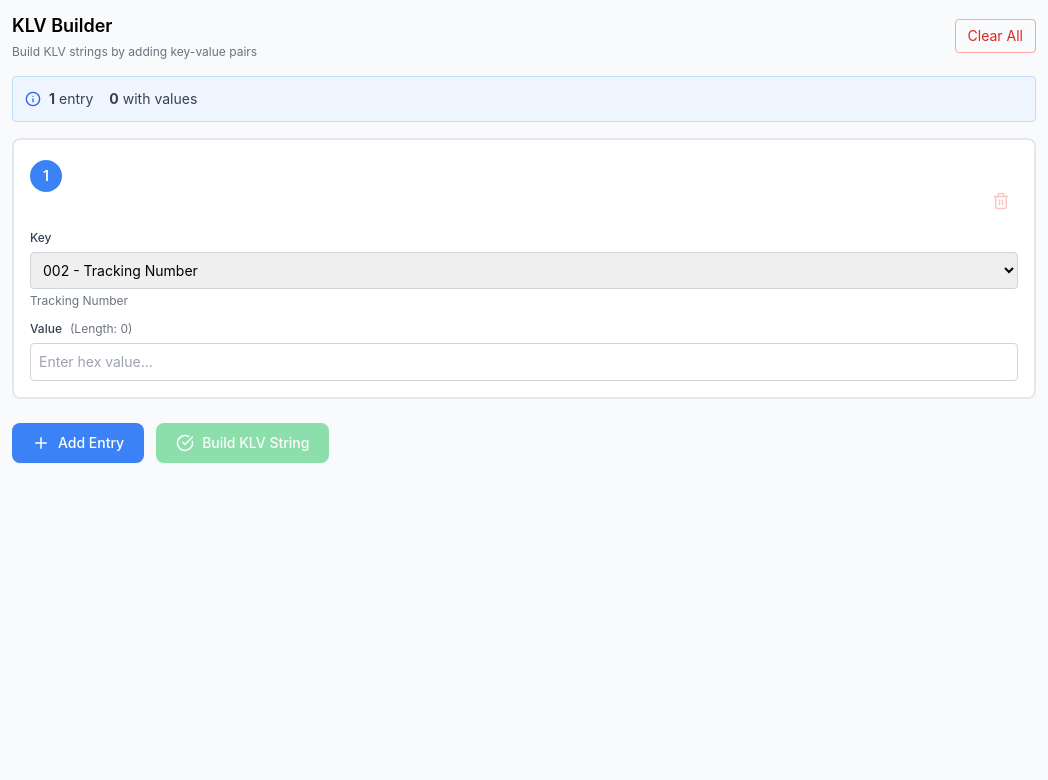
Test case: KLVBuilder › Removing Entries › should remove correct entry when remove button is clicked
The width and height of the screenshot is (1048, 780).
Note: Add entries and set different values
Click the button "Add Entry": {"x": 78, "y": 443} [12,423,144,463]
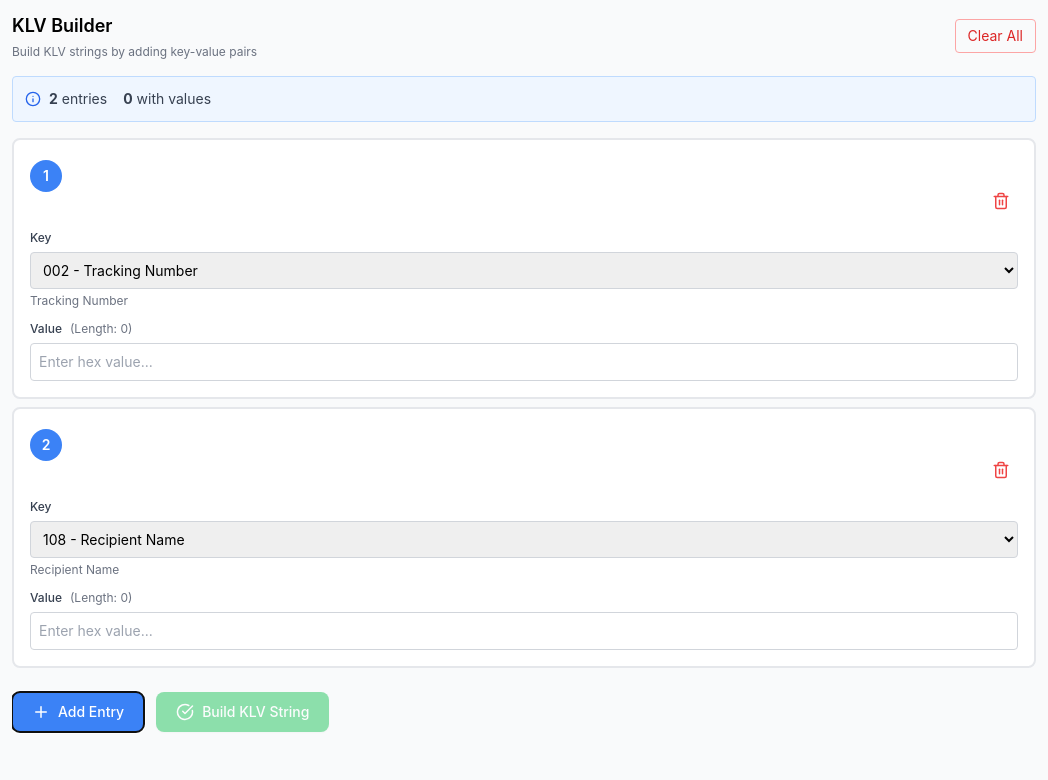
In the field with placeholder "Enter hex value..." below "Tracking Number": {"x": 524, "y": 362} [30,343,1018,381], type "First"
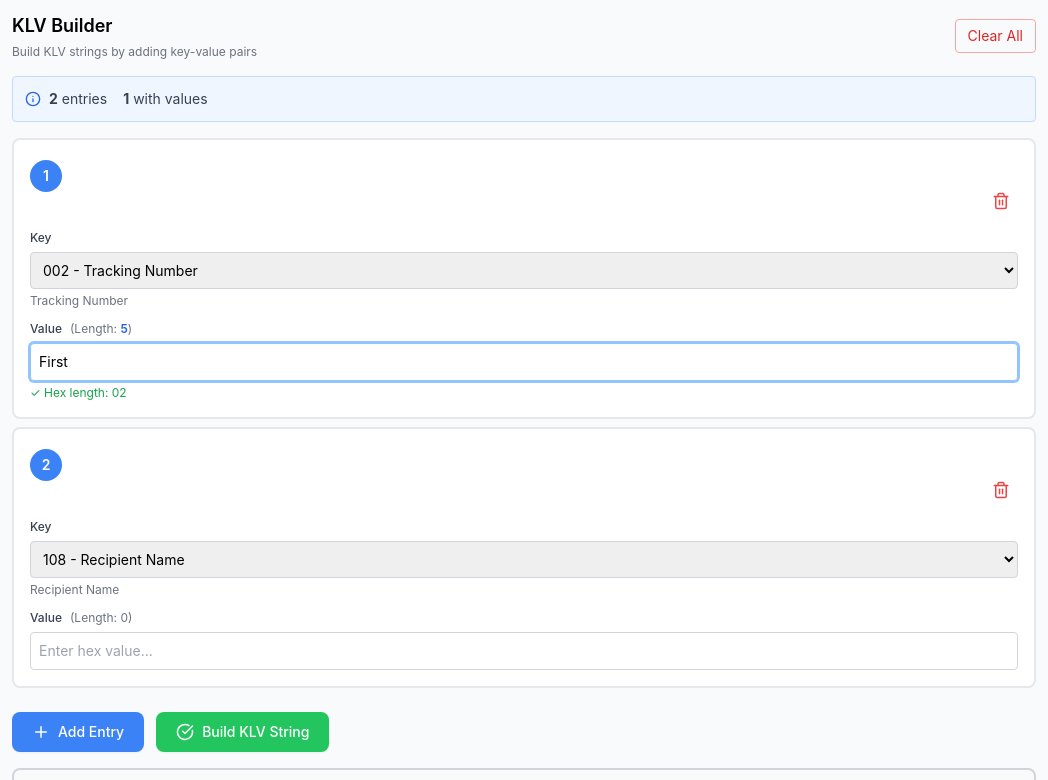
In the field with placeholder "Enter hex value...": {"x": 524, "y": 651} [30,632,1018,670], type "Second"
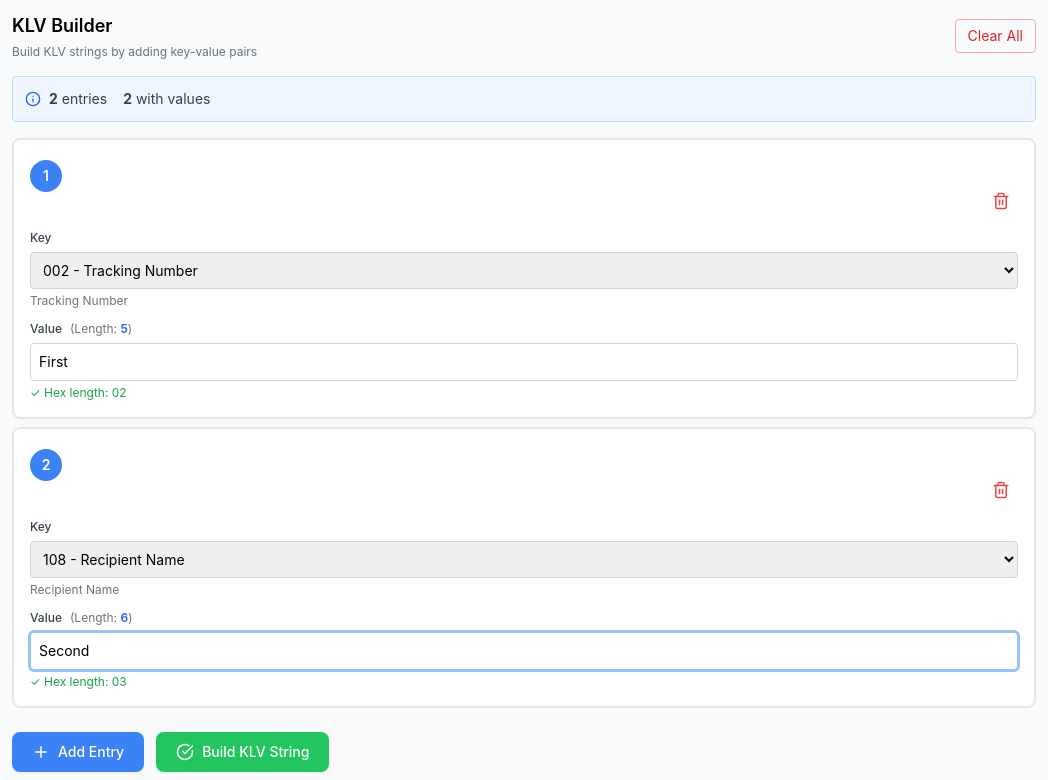
Click the 1st button named "Remove entry": {"x": 1001, "y": 201} [984,184,1018,218]
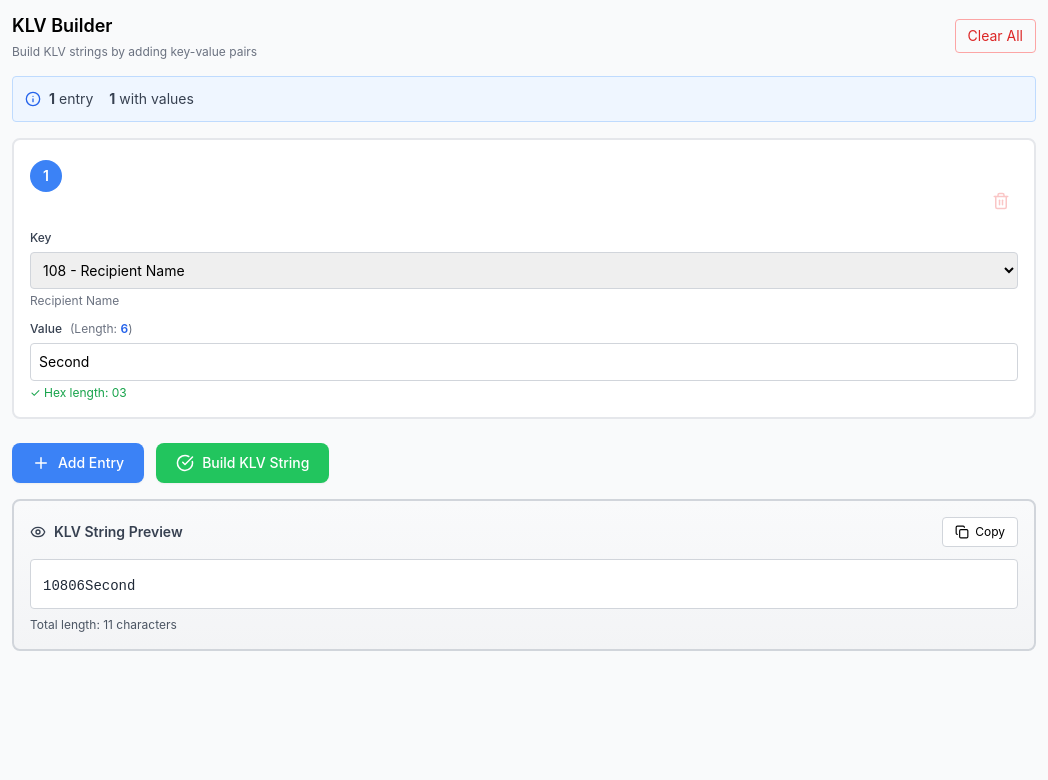
Now the field with placeholder "Enter hex value..." holds "Second", box [30,343,1018,381]
